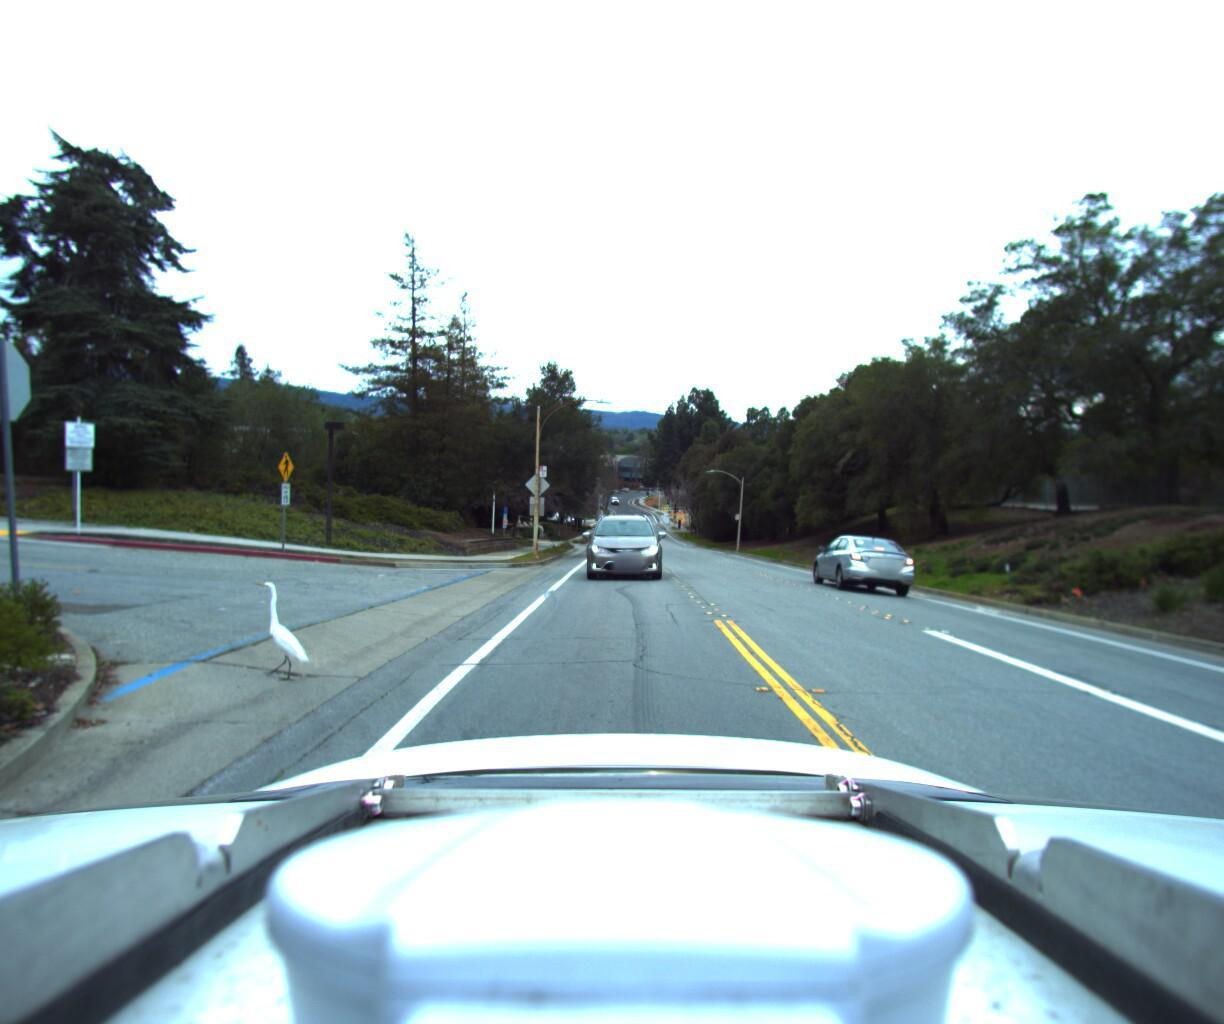car: (791, 522, 900, 594), (582, 499, 661, 583)
